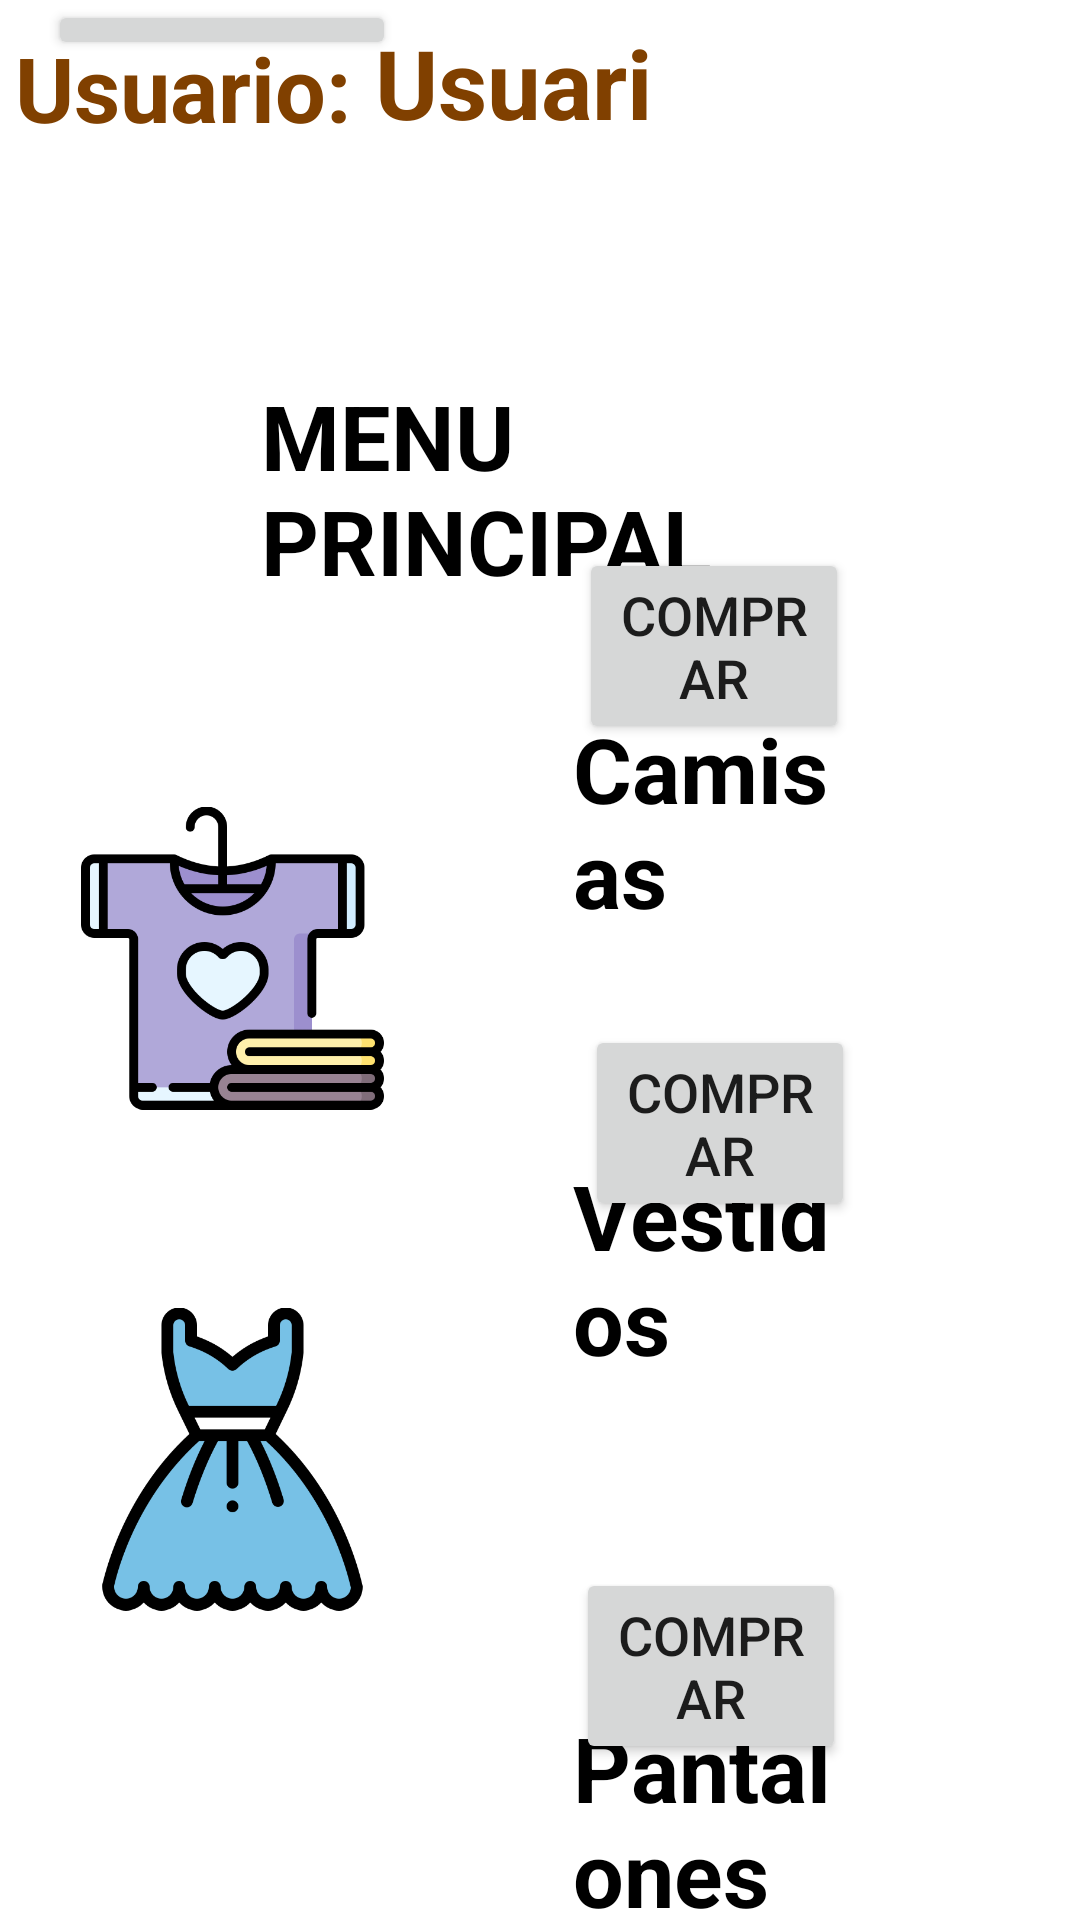

Icons on this 1080 x 1920 Android screen, each with the point to tap as (x,y):
camisas: (232,958)
vestidos: (232,1459)
